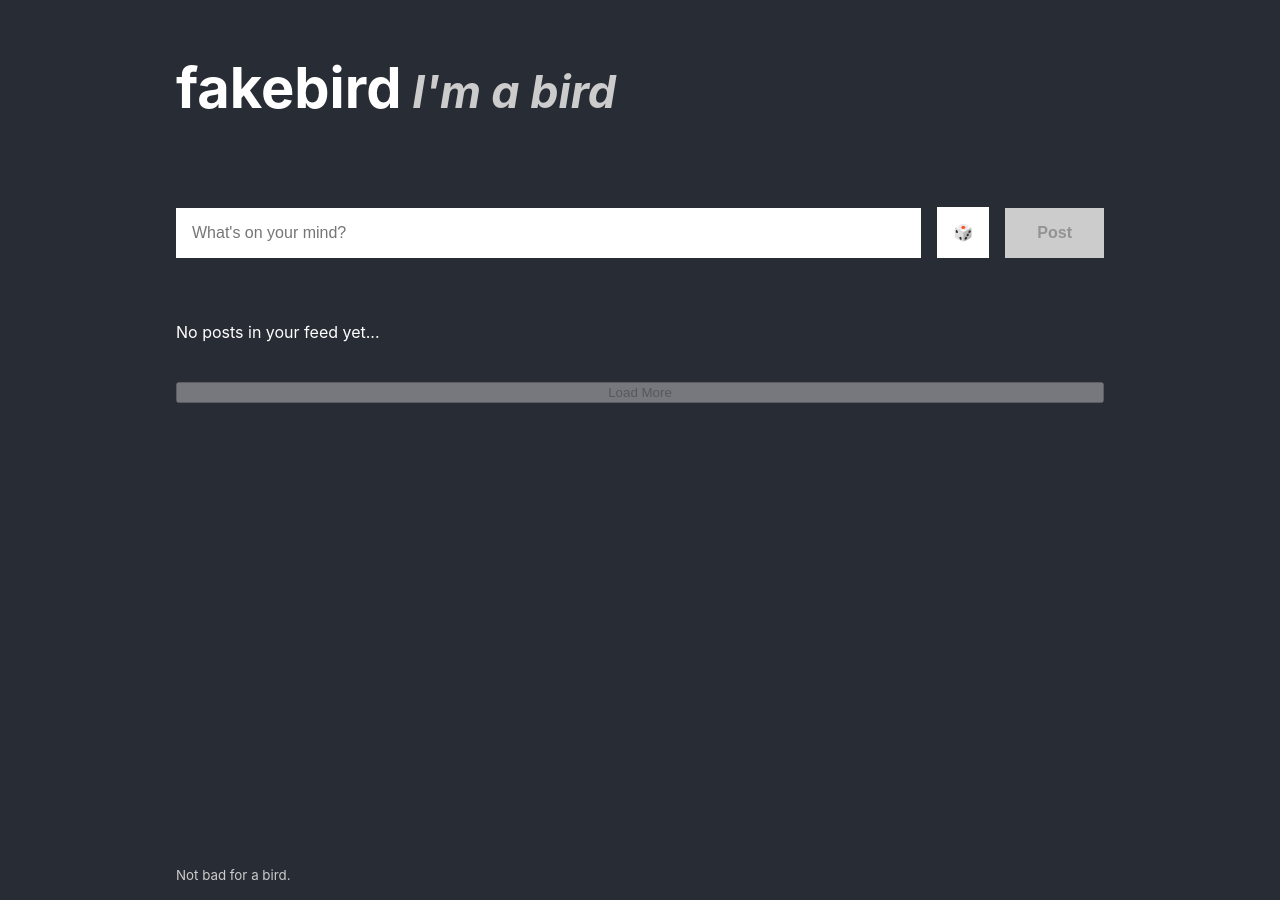
<App /> › create a new post › renders recently created post
This screenshot has width=1280, height=900.
Type "Hello fakebird!" into the field with placeholder "What's on your mind?" at point(549, 232), box [176,208,921,258]
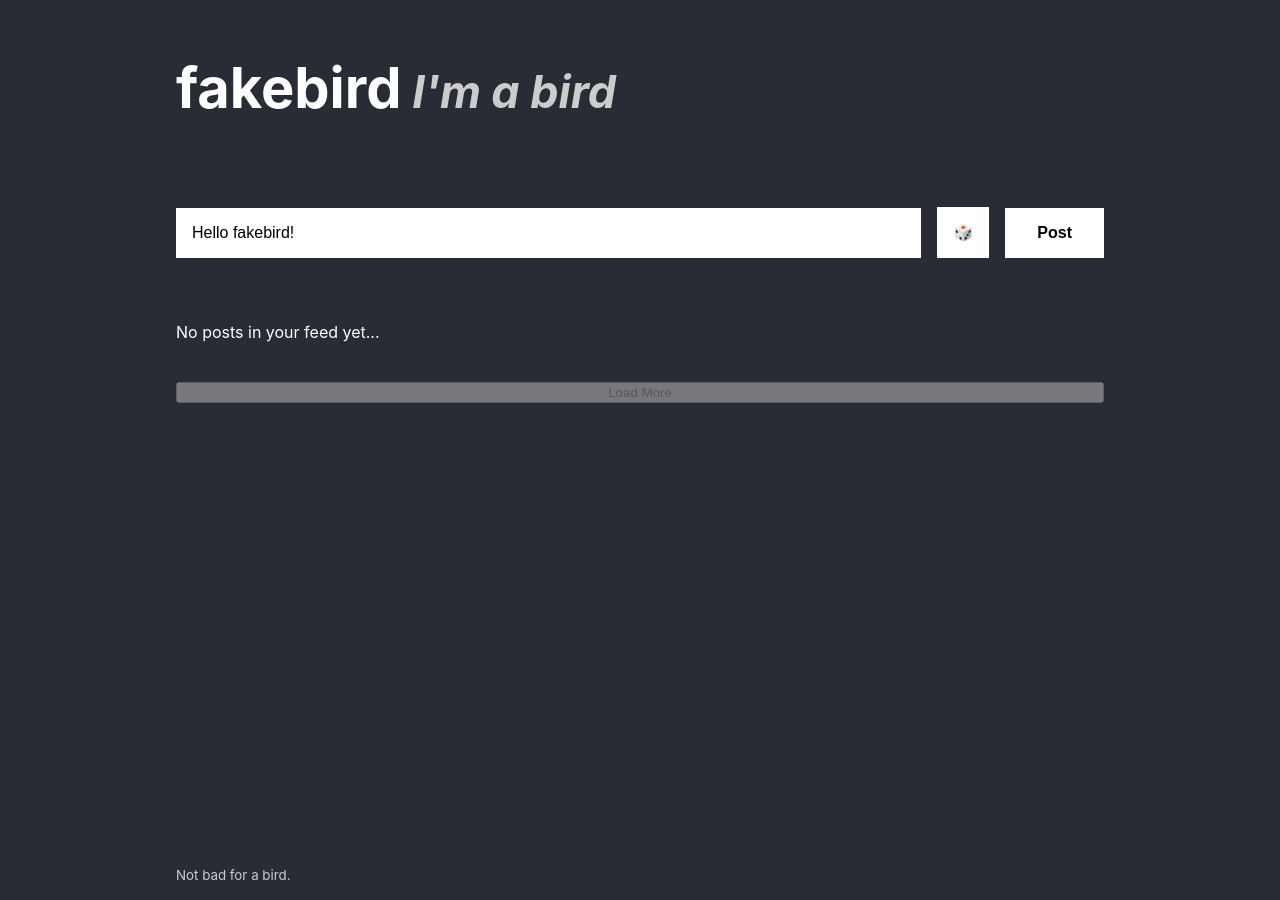
Click the button "Post" at point(1055, 232), box [1005,208,1104,258]
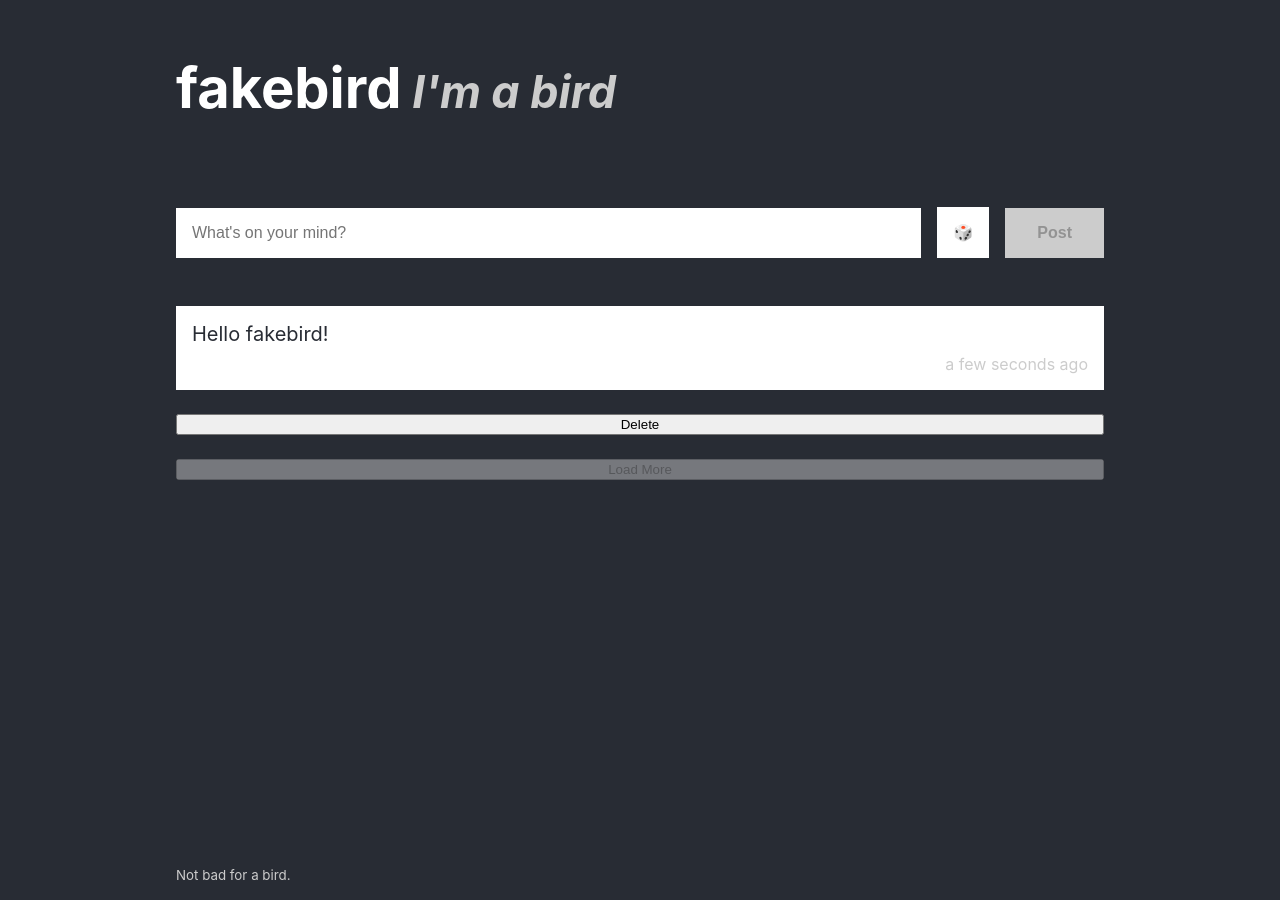
Expected: the text "Hello fakebird!" is shown, [192,322,329,346]
Expected: the field with placeholder "What's on your mind?" is empty, [176,208,921,258]
